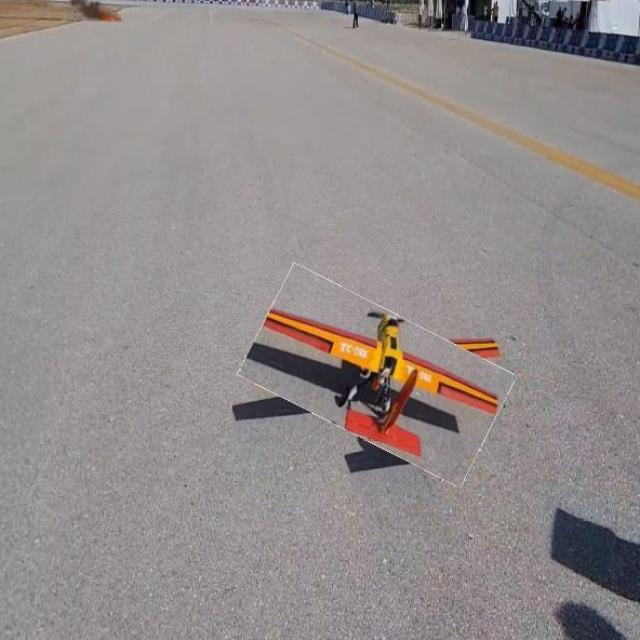plane: (260, 304, 502, 462)
